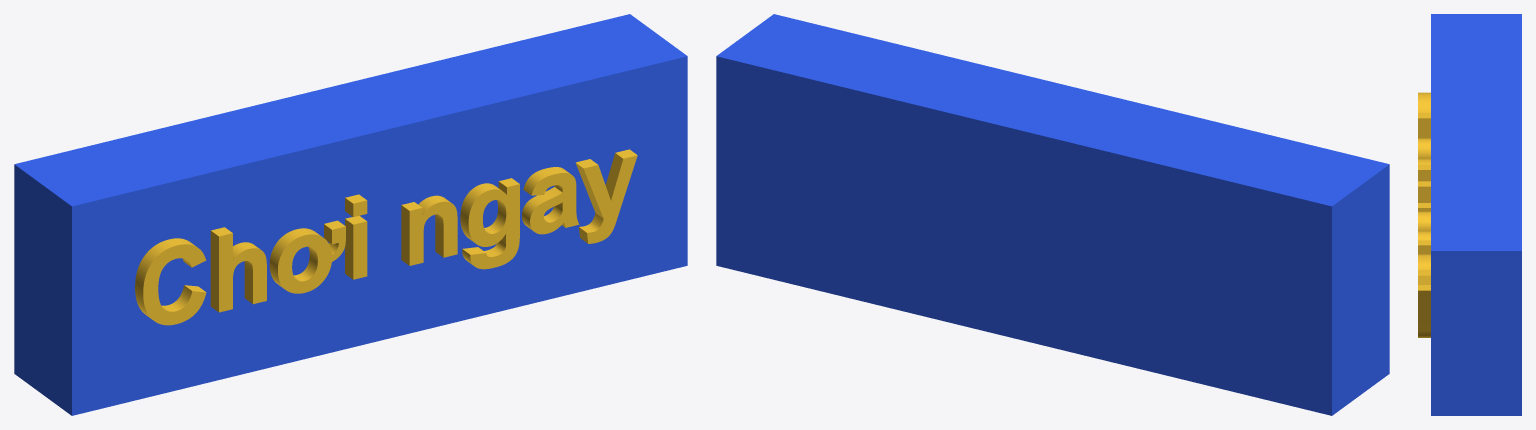
Rendered from start.glb.
The picture shows the model from 3 angles, left to right: view 1: azimuth 30°, elevation 25°; view 2: azimuth 150°, elevation 25°; view 3: azimuth 270°, elevation 25°; orthographic projection. The views are drawn at different scales.
Parts seen in each view (by area): view 1: Cube, Text; view 2: Cube; view 3: Cube, Text.
Boxes of the visible parts, x1,y1,x2,y2 form: Cube: (14,14,687,415); Text: (135,149,637,325); Cube: (716,14,1389,415); Cube: (1431,14,1521,415); Text: (1418,92,1430,337).
Size of the model in its own units: 2.04 by 0.6639 by 0.3781.
